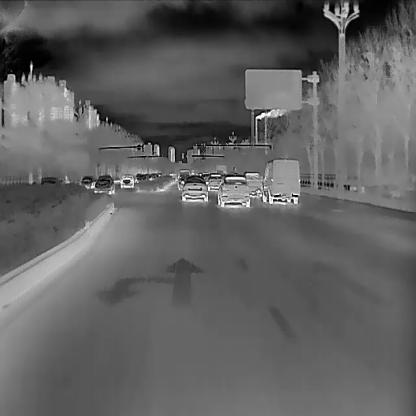car: (263, 157, 299, 205), (217, 174, 249, 207), (181, 176, 207, 203), (243, 170, 262, 198), (94, 173, 114, 195), (206, 172, 222, 190), (118, 174, 134, 188), (81, 177, 94, 188)
